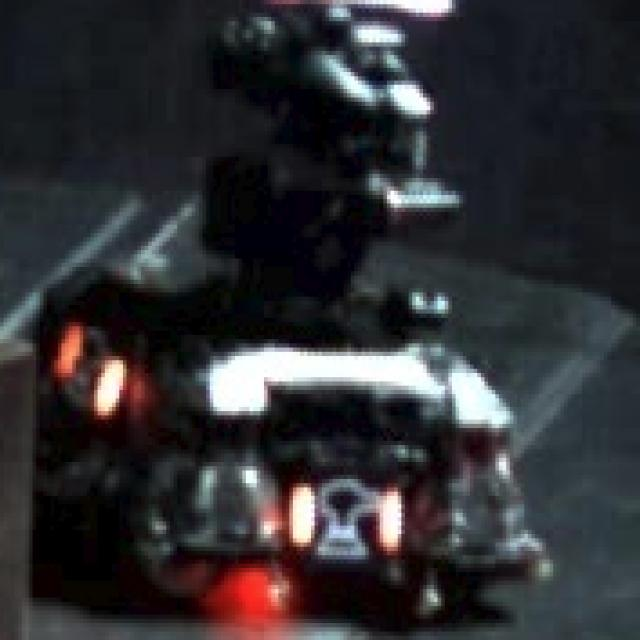Rs: (293, 475, 401, 555), (54, 322, 127, 420)
